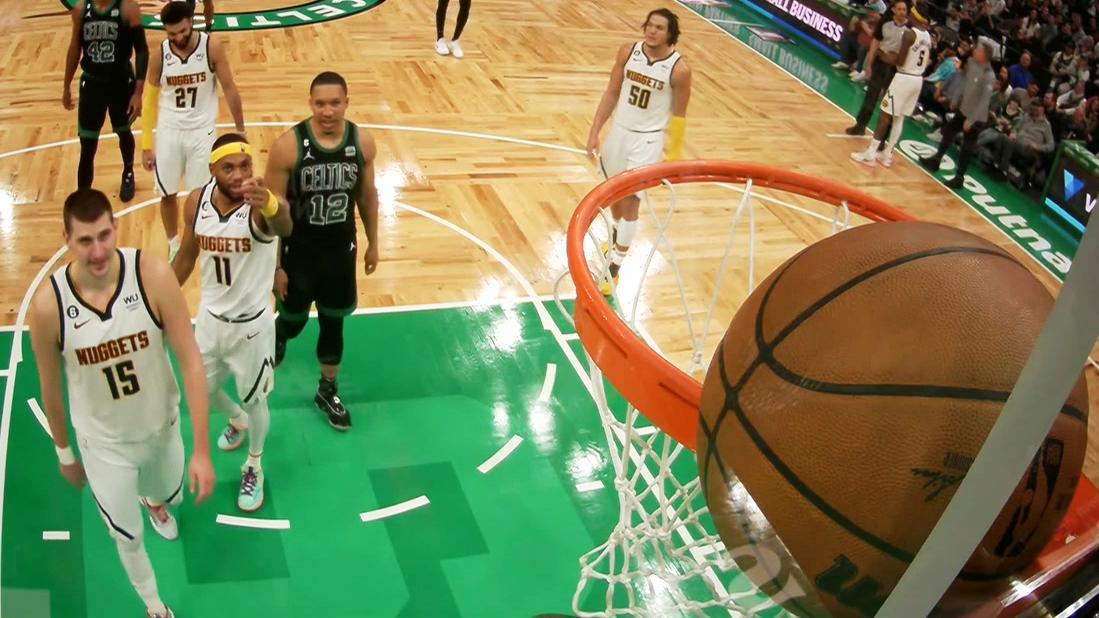basketball: (658, 221, 1099, 618)
basketball_player: (11, 184, 221, 618), (258, 70, 416, 433), (567, 6, 711, 270), (146, 1, 241, 231), (58, 1, 143, 209)
basketball_referee: (877, 1, 907, 165)
basketball_rim: (548, 170, 936, 618)
